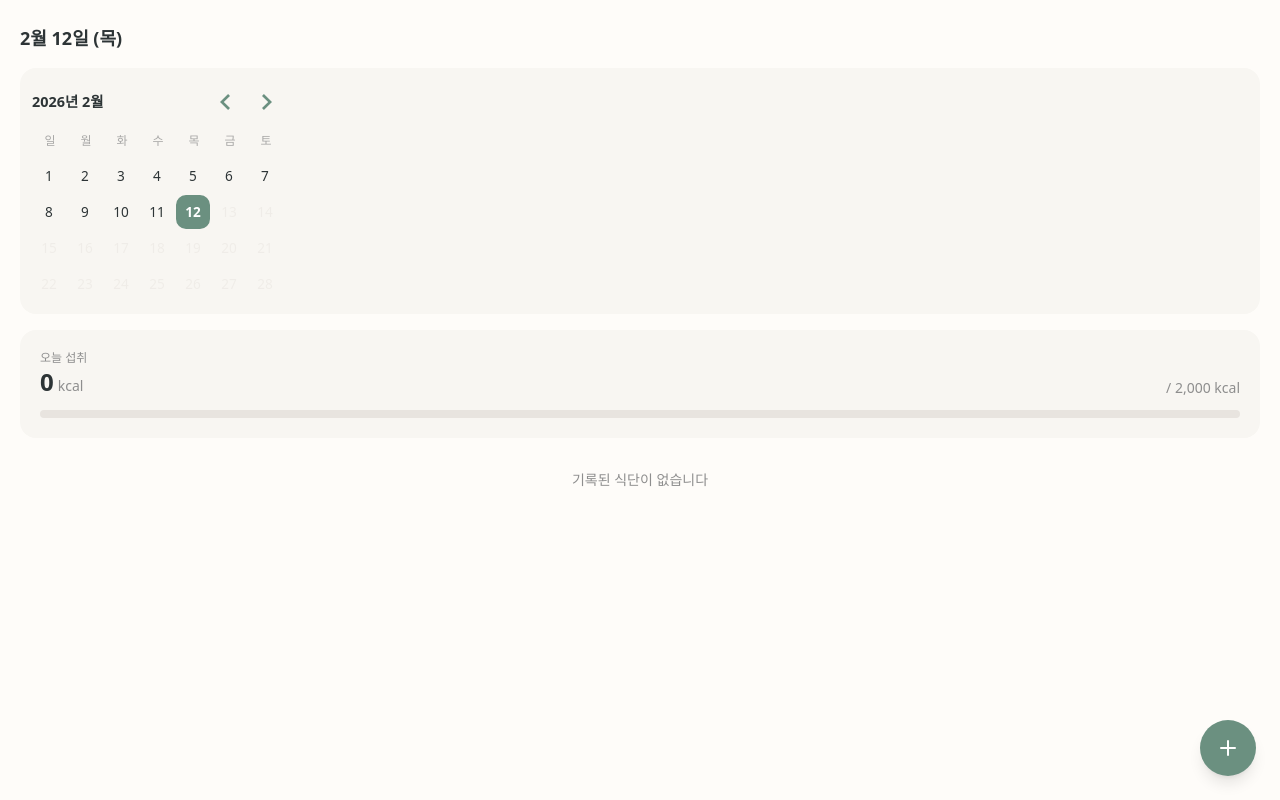
Scenario: Dashboard 페이지 › 과거 날짜 선택 시 해당 날짜의 식단이 표시된다
Expected: the text "기록된 식단이 없습니다" is shown, [572,470,708,489]
Click the button "11": x=157, y=212 [140,195,174,229]
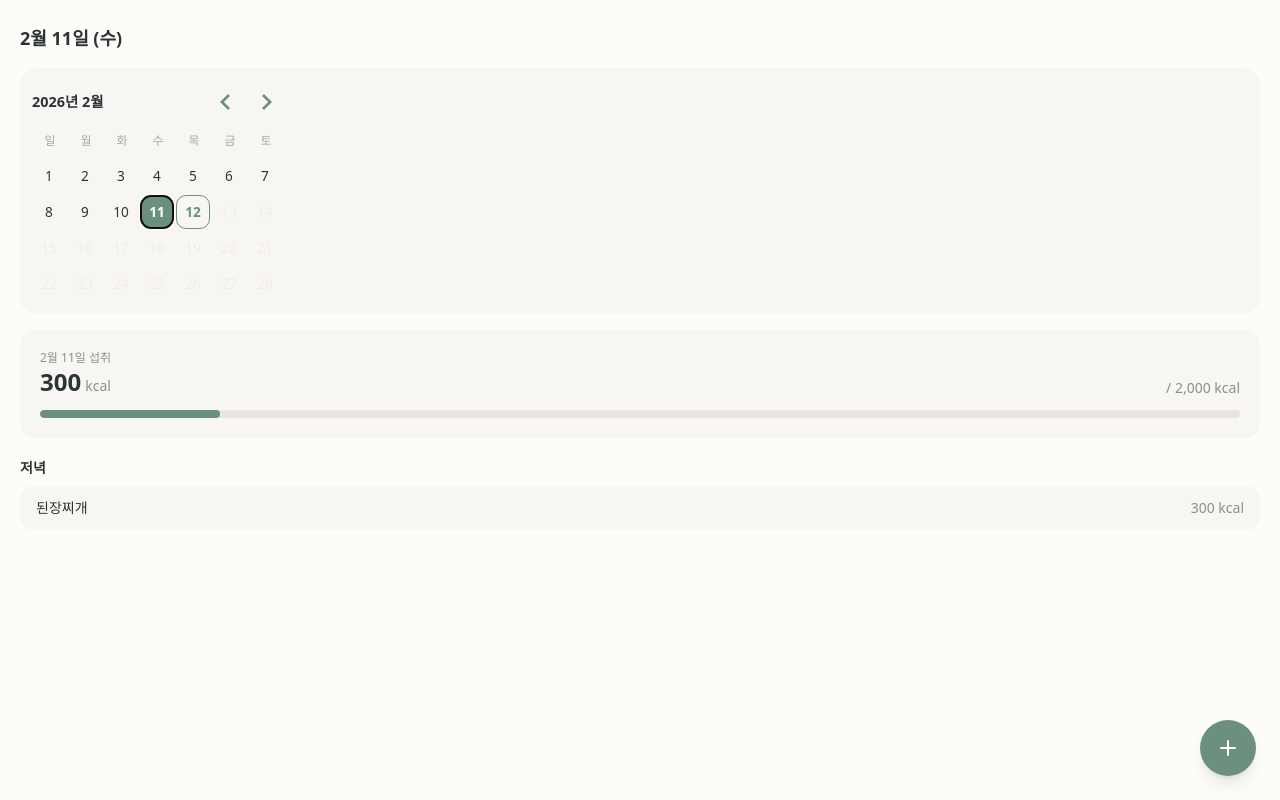
Expected: the text "된장찌개" is shown, [36,498,88,518]
